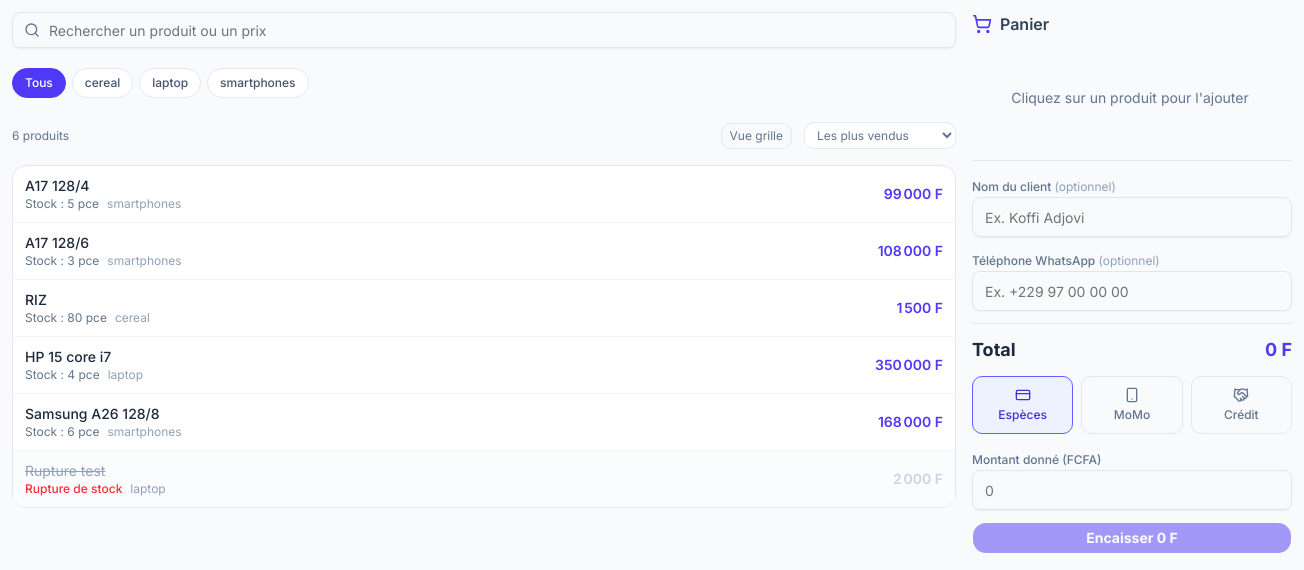
it: POS — la barre de catégories › la recherche traverse le filtre : un filtre ne doit pas créer d’impasse
The width and height of the screenshot is (1304, 570).
Click the button "cereal". click: x=102, y=83
box: [72,68,133,98]
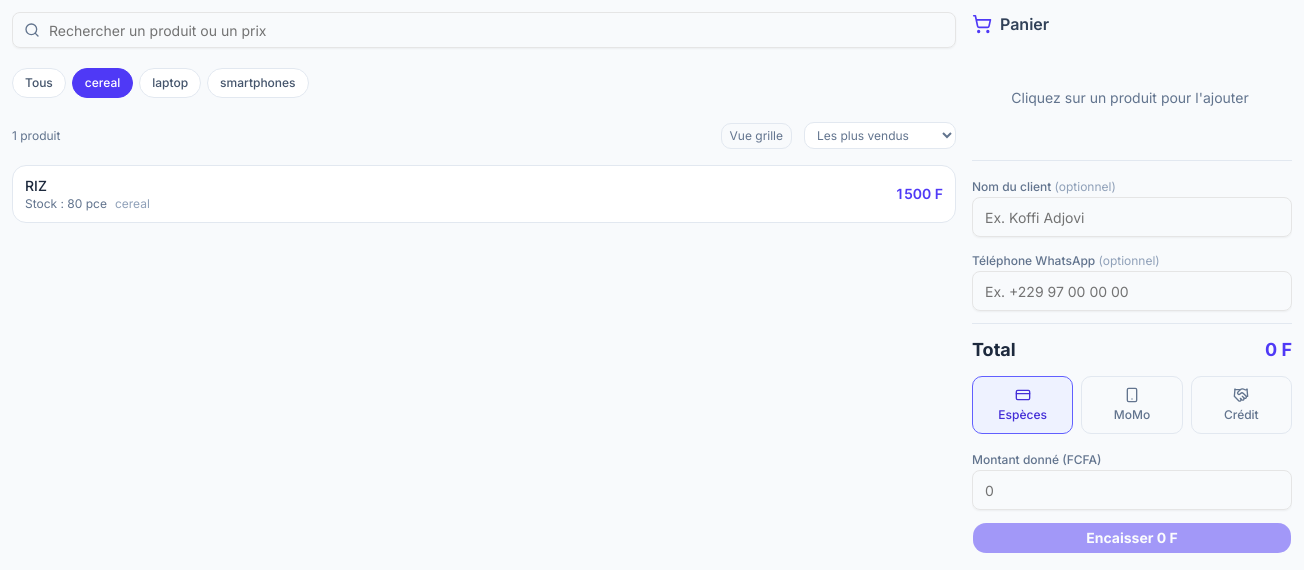
Now the button "A17 128/4" is gone
Type "a17" into the field labelled "Rechercher un produit ou un prix". click: x=484, y=30
box: [12,12,956,48]
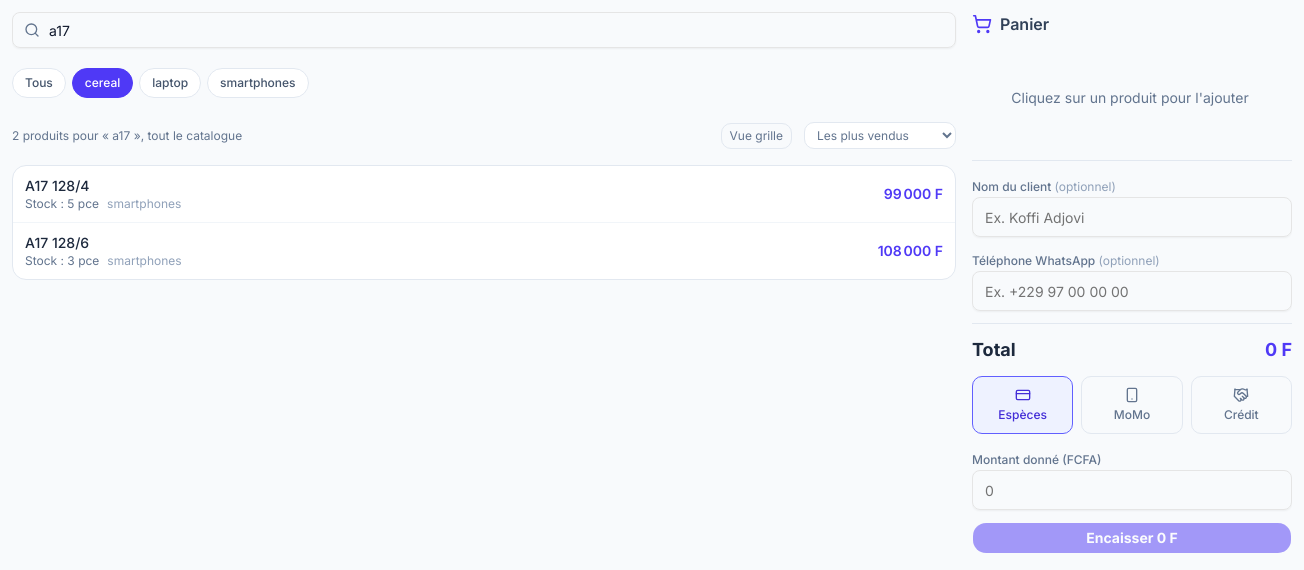
Now the text "A17 128/4" is shown, box [25,177,90,194]
